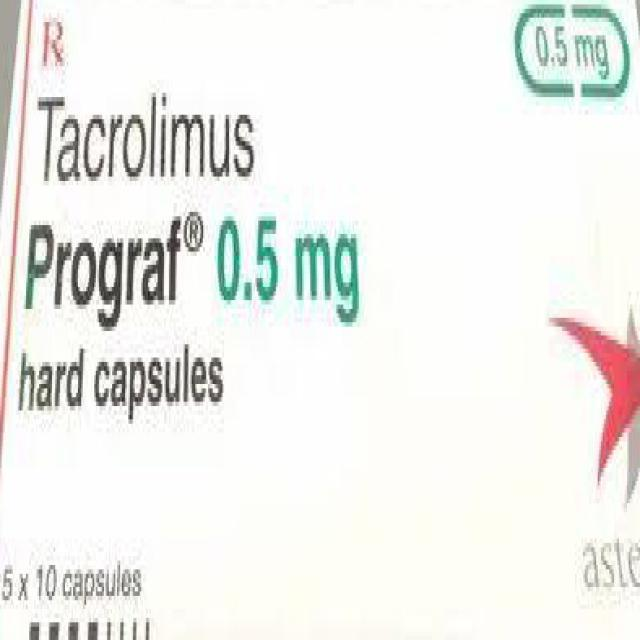drug-name: (25, 215, 207, 332)
